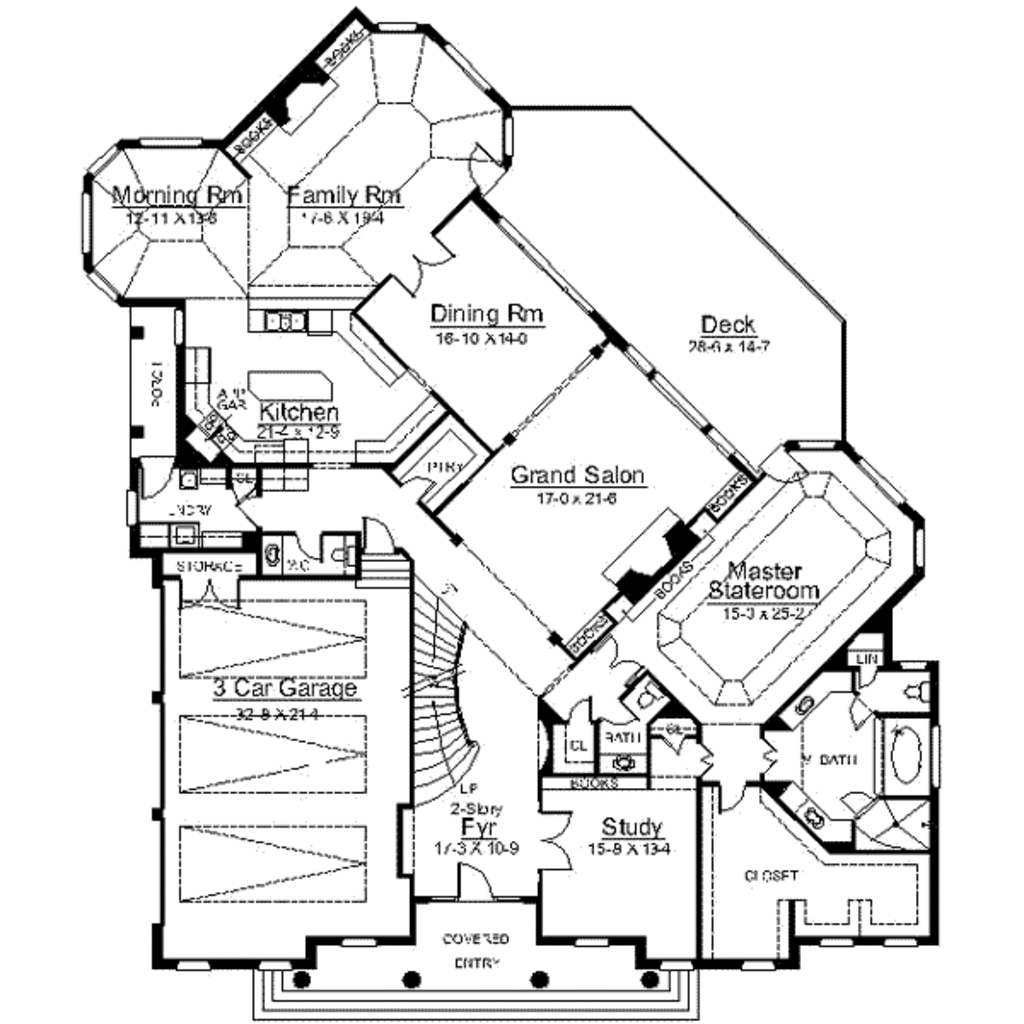door: (385, 233, 462, 298), (173, 569, 244, 614), (595, 636, 651, 685), (536, 805, 578, 870), (465, 143, 506, 195), (135, 457, 177, 502), (449, 859, 493, 901), (360, 512, 396, 551), (714, 783, 754, 818), (285, 531, 324, 560), (839, 789, 876, 816), (605, 701, 637, 731)
kitchen_bar: (240, 365, 340, 410)
stairs: (411, 578, 479, 814)
tub: (882, 717, 931, 794)
twin_sink: (260, 309, 310, 334)
window: (650, 953, 700, 975), (734, 952, 775, 974), (332, 934, 384, 951), (885, 935, 929, 951), (566, 936, 619, 949), (822, 935, 856, 951), (170, 958, 213, 970), (259, 961, 290, 973)
